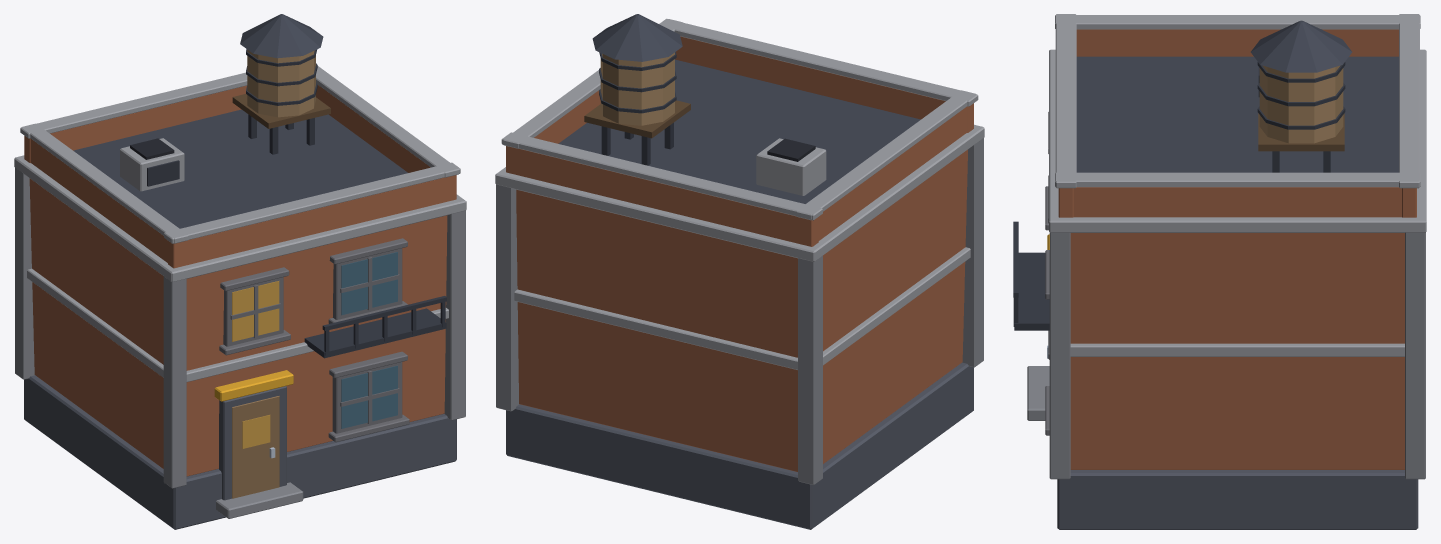
Rendered from Stylized_Apoc_House_01_Brick_Rowhouse.fbx.
The picture shows the model from 3 angles, left to right: view 1: azimuth 30°, elevation 25°; view 2: azimuth 150°, elevation 25°; view 3: azimuth 270°, elevation 25°; orthographic projection. The views are drawn at different scales.
Parts seen in each view (by area): view 1: Stylized_Apoc_House_01_Brick_Rowhouse; view 2: Stylized_Apoc_House_01_Brick_Rowhouse; view 3: Stylized_Apoc_House_01_Brick_Rowhouse.
Part boxes in pixels (box(x1,y1,x2,y2)): Stylized_Apoc_House_01_Brick_Rowhouse: box(14, 14, 466, 529); Stylized_Apoc_House_01_Brick_Rowhouse: box(495, 14, 984, 529); Stylized_Apoc_House_01_Brick_Rowhouse: box(1013, 14, 1426, 529).
Bounding box in the file's own units: 5.44 × 6.86 × 5.52.
